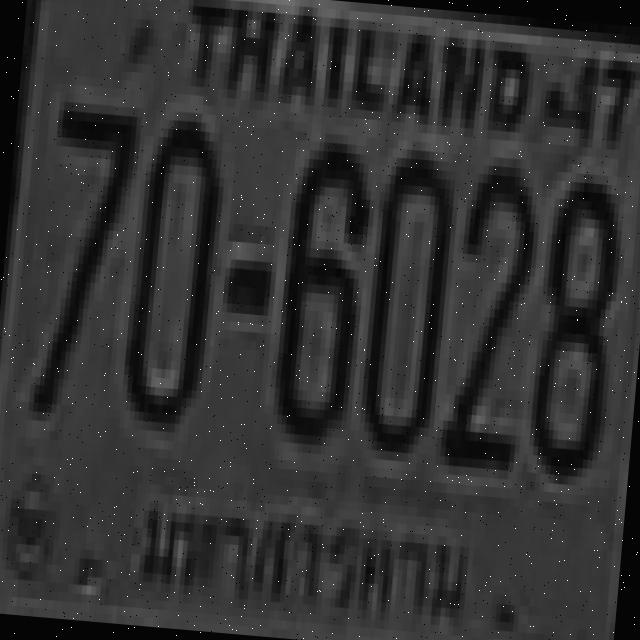0: (115, 108, 225, 425), (356, 143, 456, 450)
2: (438, 154, 538, 462)
6: (266, 130, 371, 438)
7: (28, 91, 139, 418)
8: (522, 170, 622, 478)
MahaSarakham: (119, 471, 480, 640)
